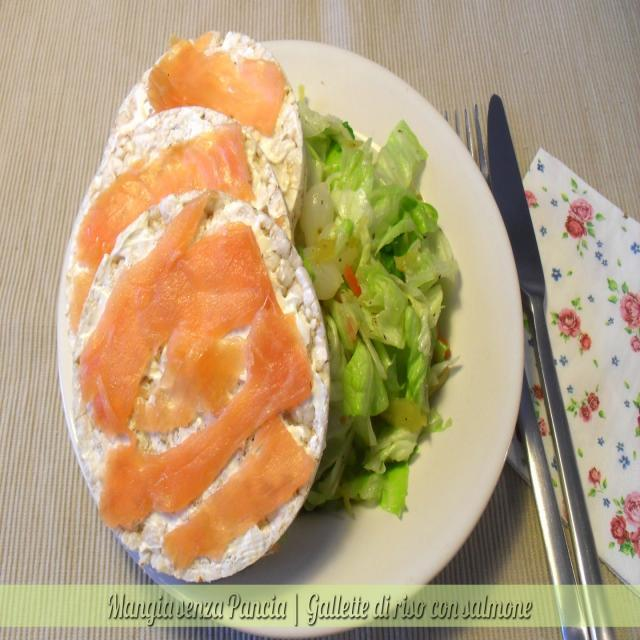Salad: (309, 121, 453, 509)
